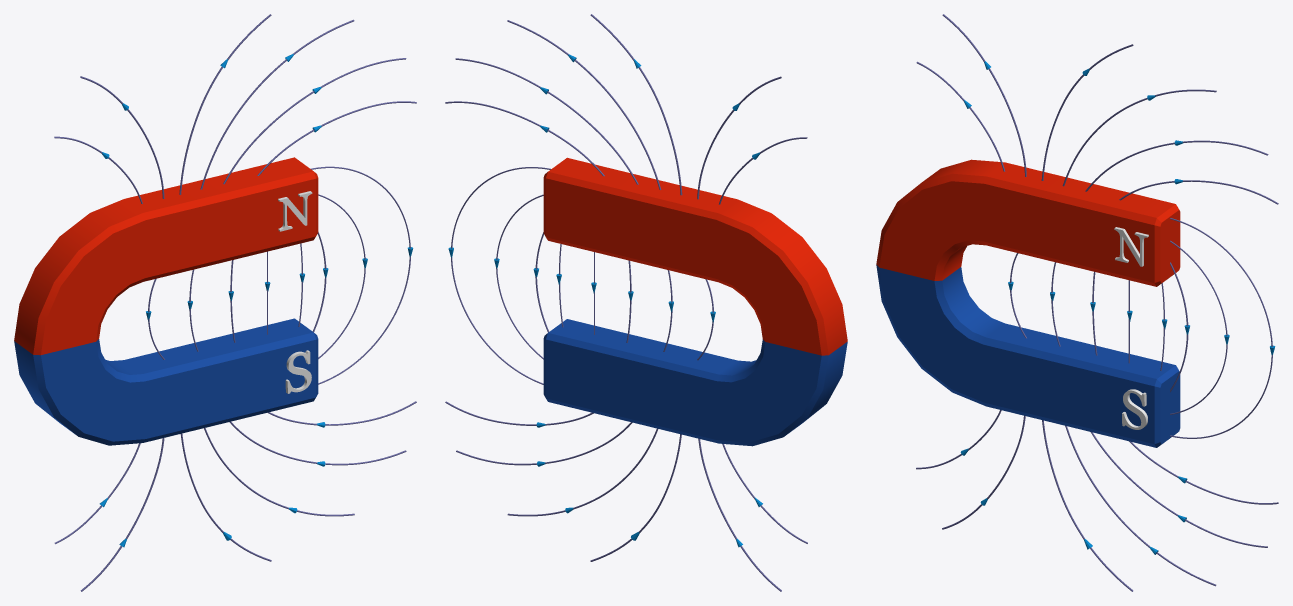
File: U_dantao.fbx
The picture shows the model from 3 angles, left to right: view 1: azimuth 30°, elevation 25°; view 2: azimuth 150°, elevation 25°; view 3: azimuth 330°, elevation 25°; orthographic projection.
Parts seen in each view (by area): view 1: polySurface32; view 2: polySurface32; view 3: polySurface32.
Boxes of the visible parts, bbox=[...] form: polySurface32: bbox=[14, 14, 416, 591]; polySurface32: bbox=[445, 14, 847, 591]; polySurface32: bbox=[876, 14, 1278, 591].
Size of the model in its own units: 19.39 by 25.83 by 2.19.
